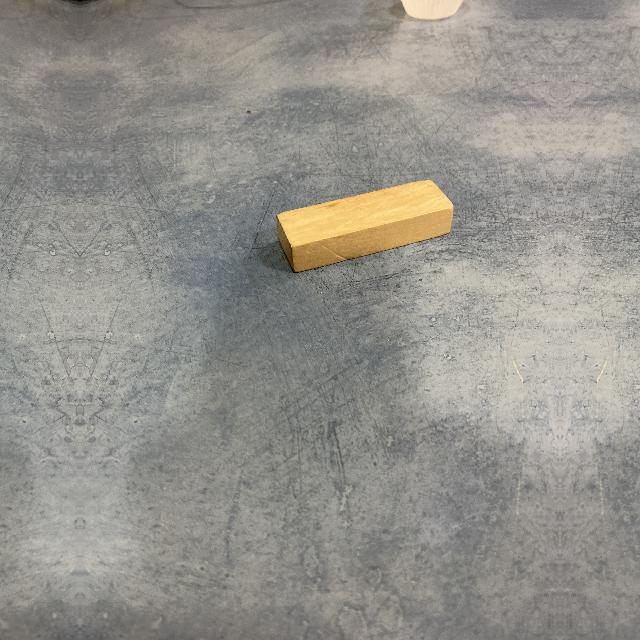jenga: (274, 179, 456, 273)
